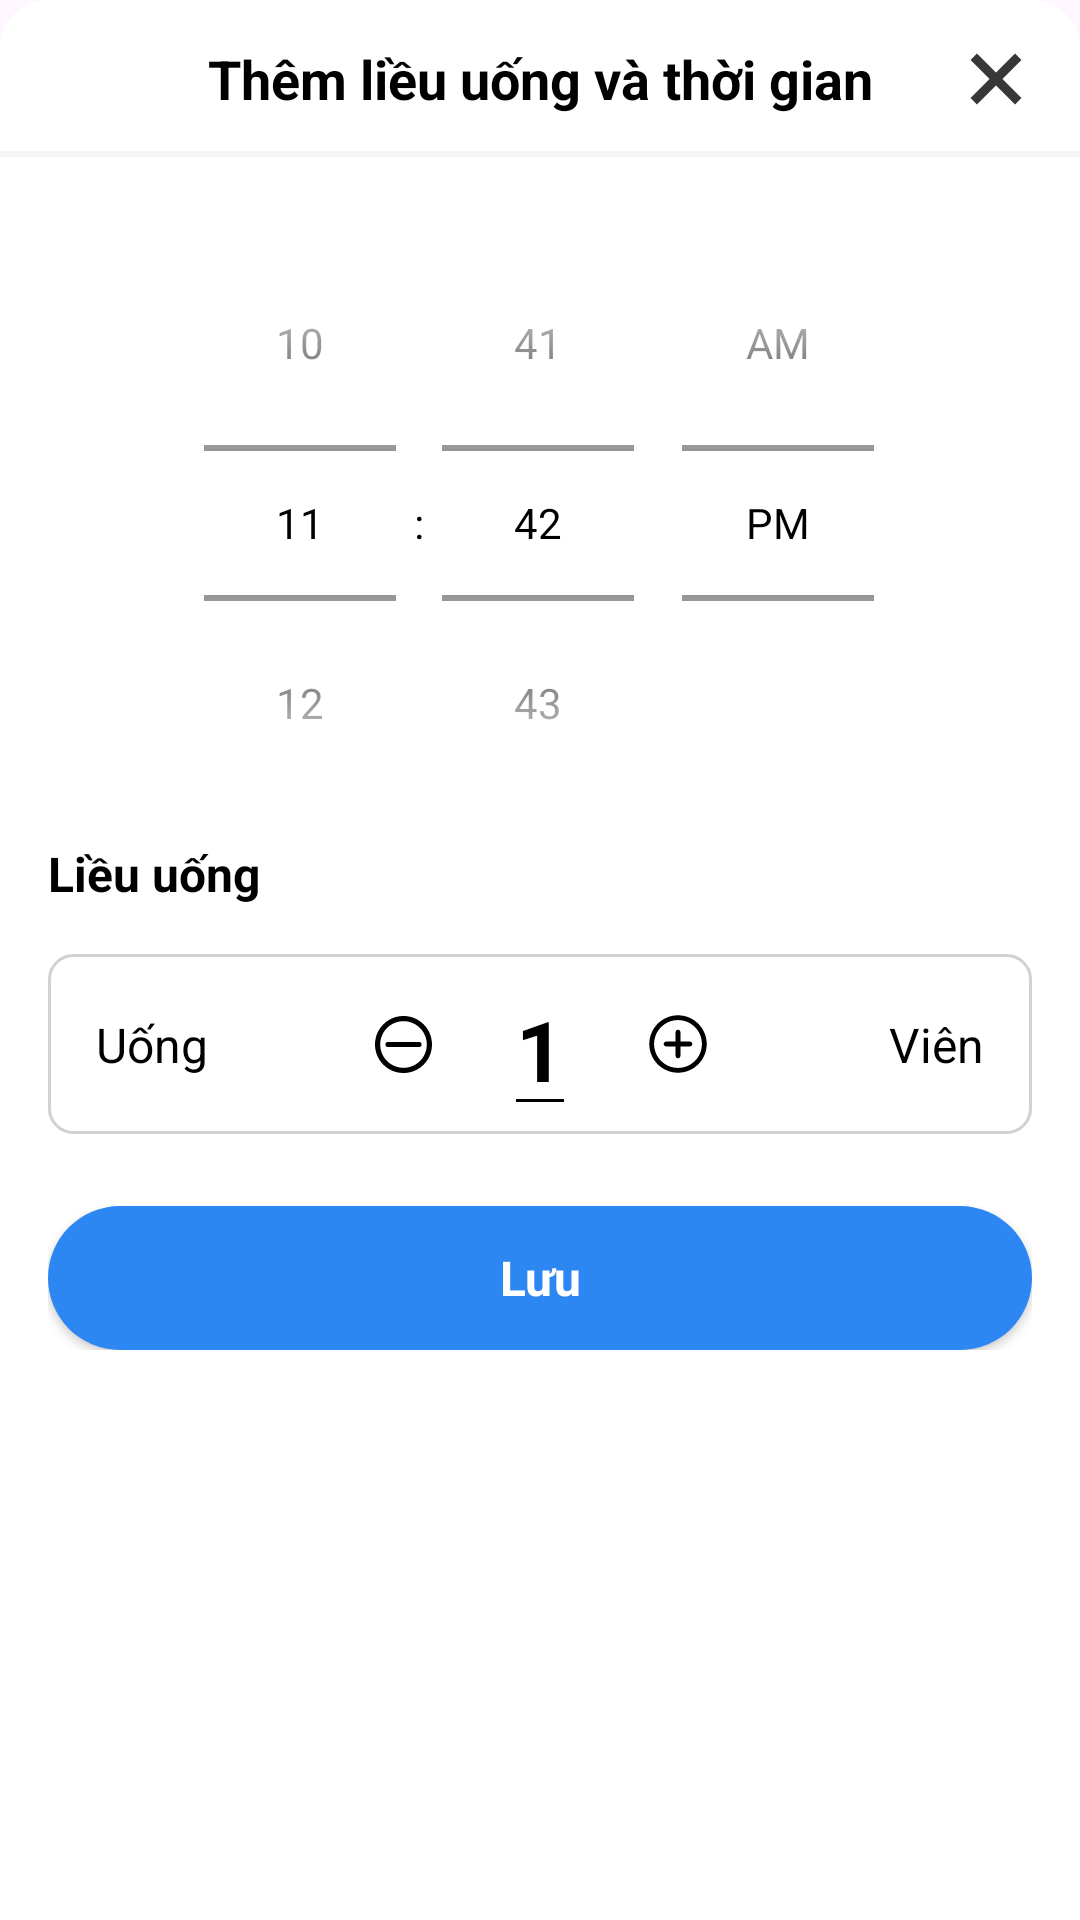

Point at icon controls on the screen. Image size 1080px×1920px, points as point (x, y).
close: point (996, 79)
subtracting: point (403, 1044)
